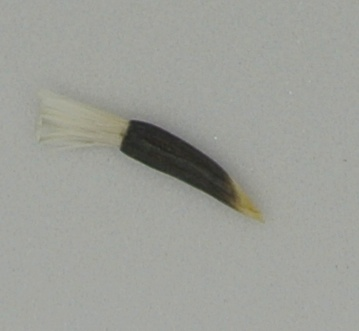เมล็ดดีติดกัน: (31, 85, 268, 230)
